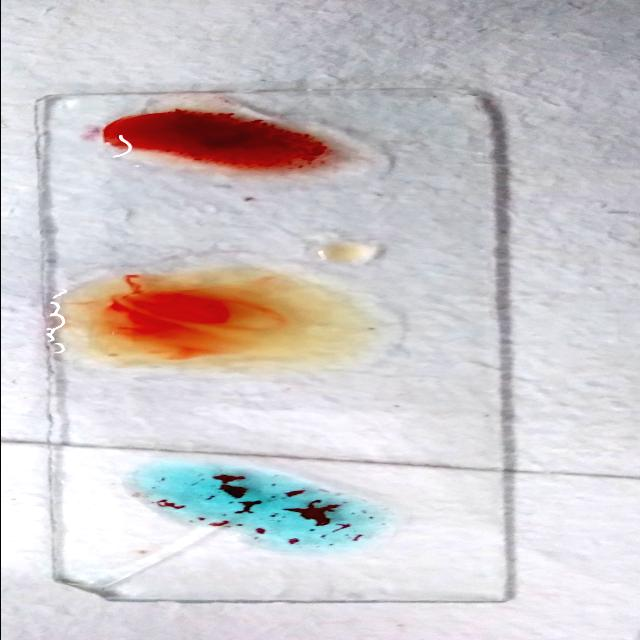A: (131, 462, 383, 554)
D: (96, 100, 368, 182)
